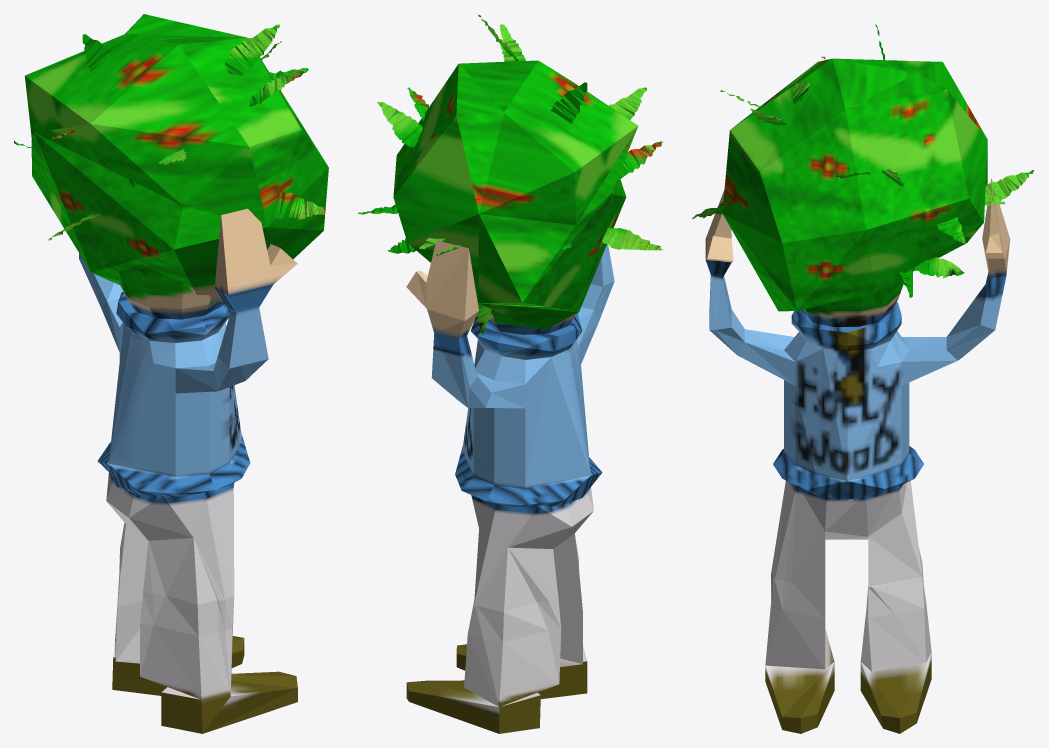
The model's file is PipBush.glb.
3 views of the same model, side by side, from view 1: azimuth 30°, elevation 25°; view 2: azimuth 150°, elevation 25°; view 3: azimuth 270°, elevation 25° (orthographic). The views are drawn at different scales.
Visible parts, largest first — view 1: PipBush; view 2: PipBush; view 3: PipBush.
Boxes of the visible parts, x1,y1,x2,y2 form: PipBush: (14,14,328,733); PipBush: (357,14,662,733); PipBush: (692,24,1034,733).
Size of the model in its own units: 50.72 by 124 by 59.68.
Materials: 1 (1 with a texture image).
